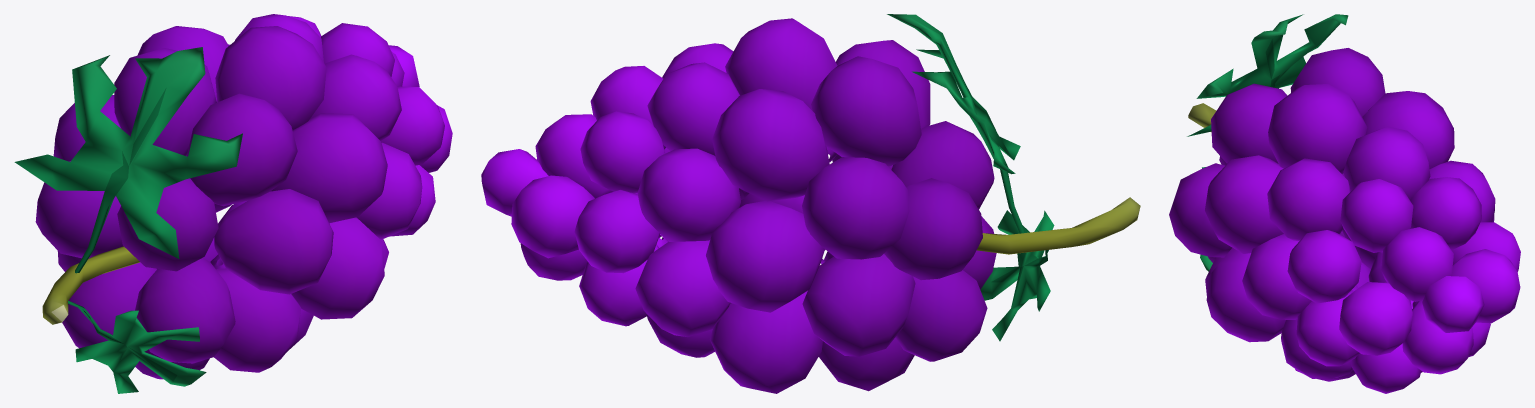
The model's file is food_grapes.glb.
3 views of the same model, side by side, from view 1: azimuth 30°, elevation 25°; view 2: azimuth 150°, elevation 25°; view 3: azimuth 270°, elevation 25° (orthographic). The views are drawn at different scales.
Visible parts, largest first — view 1: food_grapes; view 2: food_grapes; view 3: food_grapes.
Part boxes in pixels (x1,y1,x2,y2): food_grapes: (14, 14, 452, 393); food_grapes: (481, 14, 1140, 393); food_grapes: (1169, 14, 1520, 393).
Size of the model in its own units: 60.64 by 39.72 by 40.55.
Materials: 1 (1 with a texture image).
